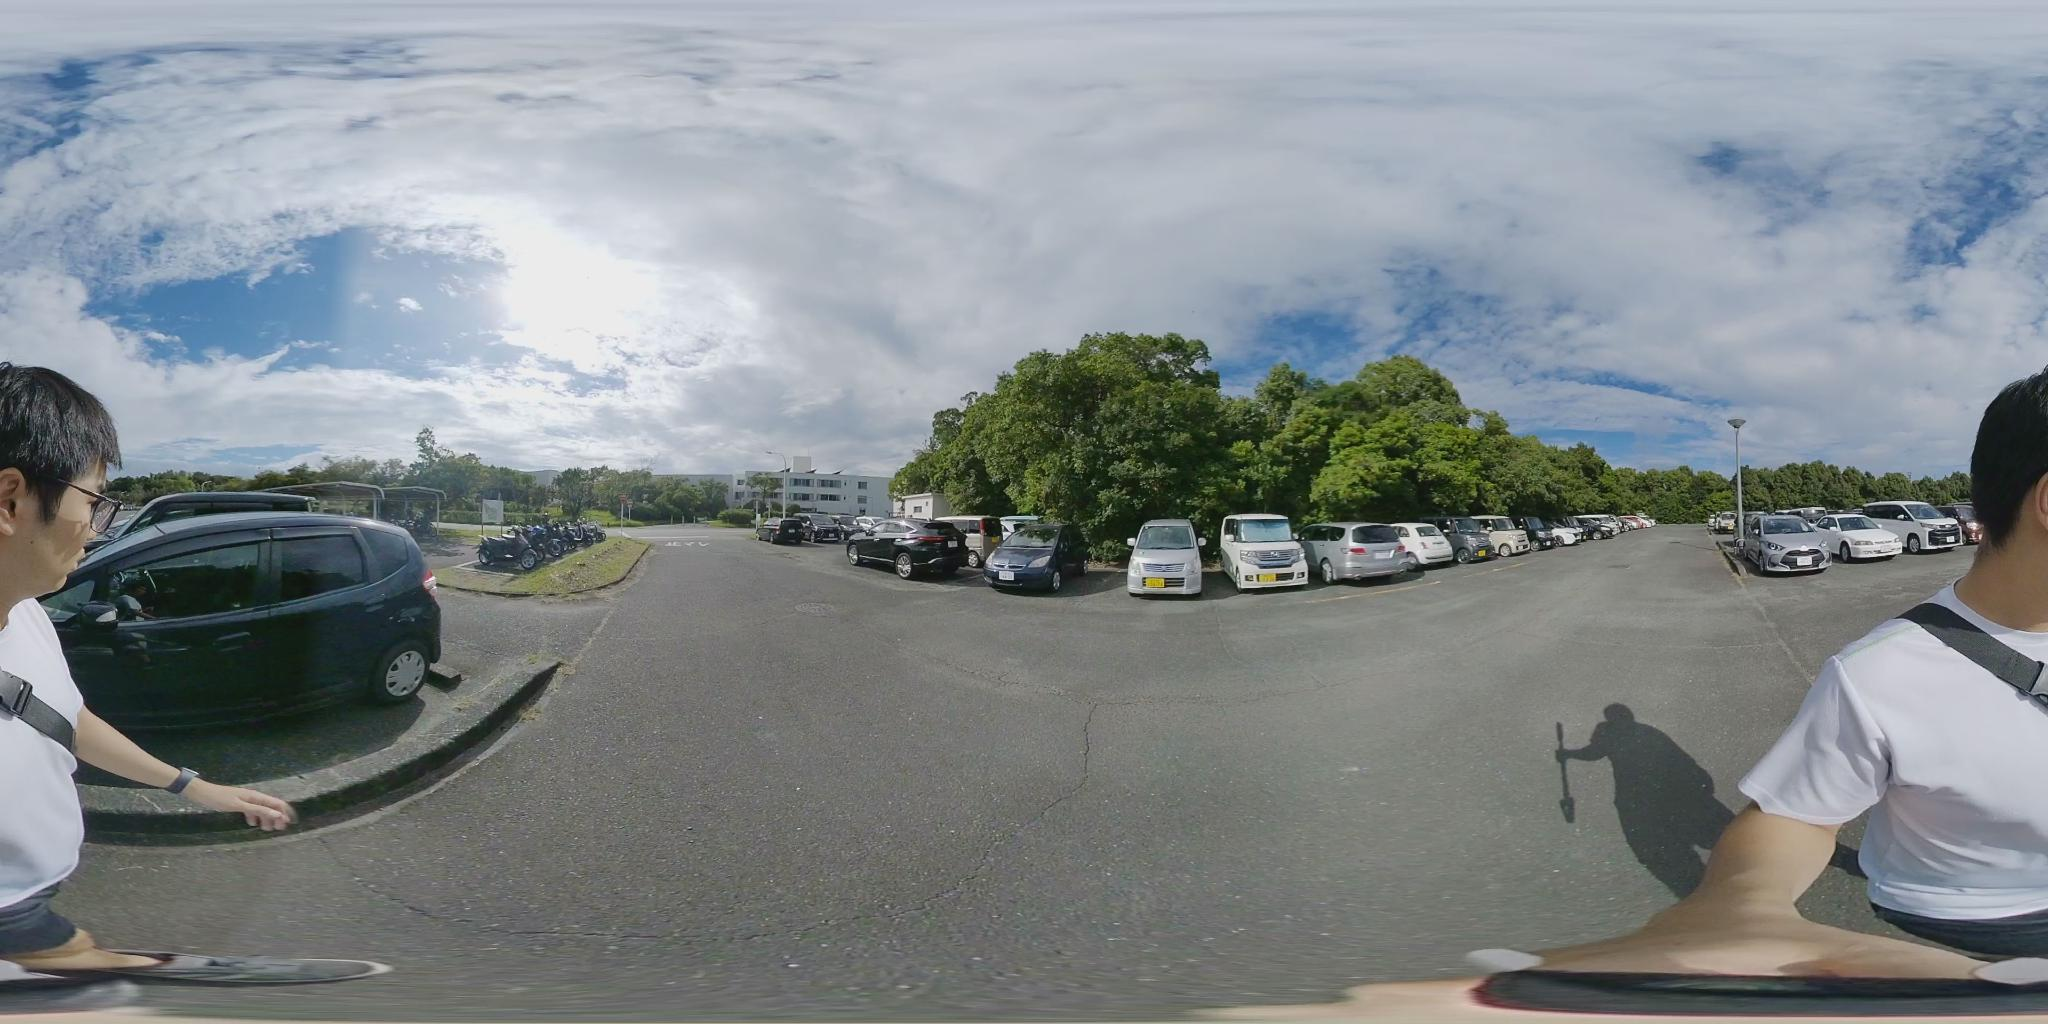car: (24, 503, 452, 720), (846, 517, 965, 579), (1332, 522, 1448, 581), (1220, 515, 1307, 589), (1848, 503, 1970, 555), (1132, 521, 1212, 597), (1809, 515, 1916, 564), (982, 536, 1064, 593), (1452, 517, 1532, 556), (1569, 517, 1631, 542), (758, 516, 808, 546)
